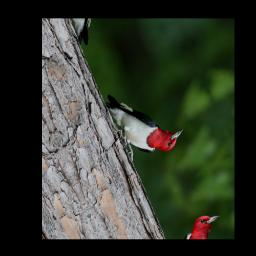Woodpecker: (100, 64, 189, 175)
